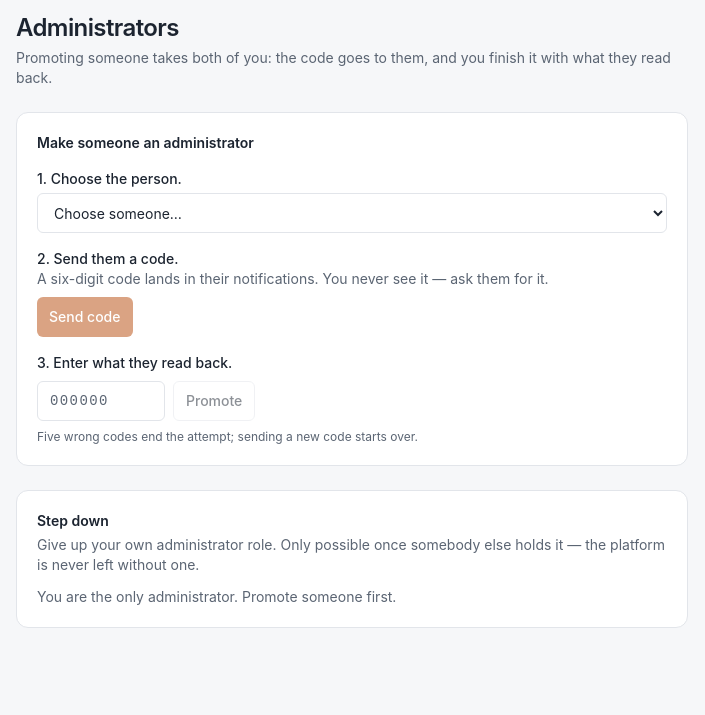
AdminHandoverPage › completes the promotion with the code read back
Select "Demo Faculty 01 · Faculty / researcher · DEMOFACULTY01" in the dropdown named "person to promote": (352, 213) [37,193,667,233]
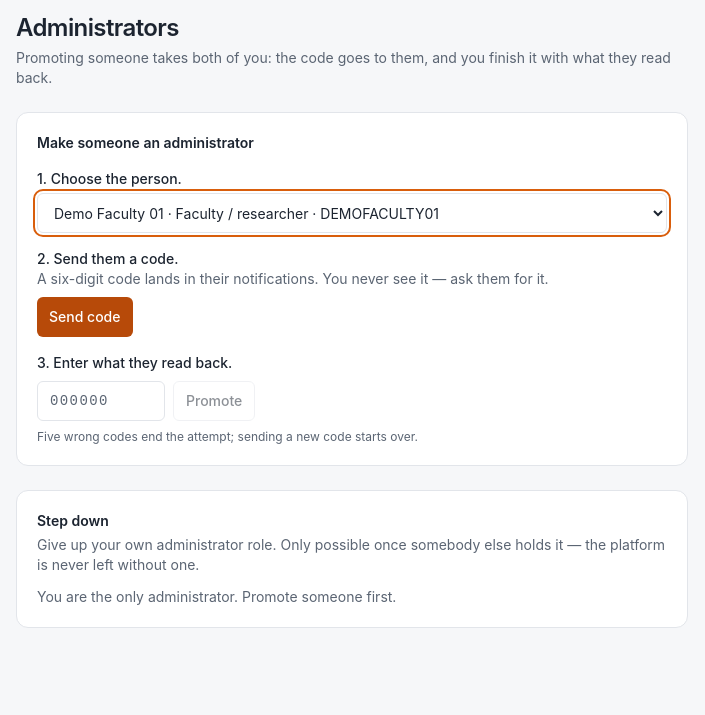
Click the button "Send code": (85, 317) [37,297,132,337]
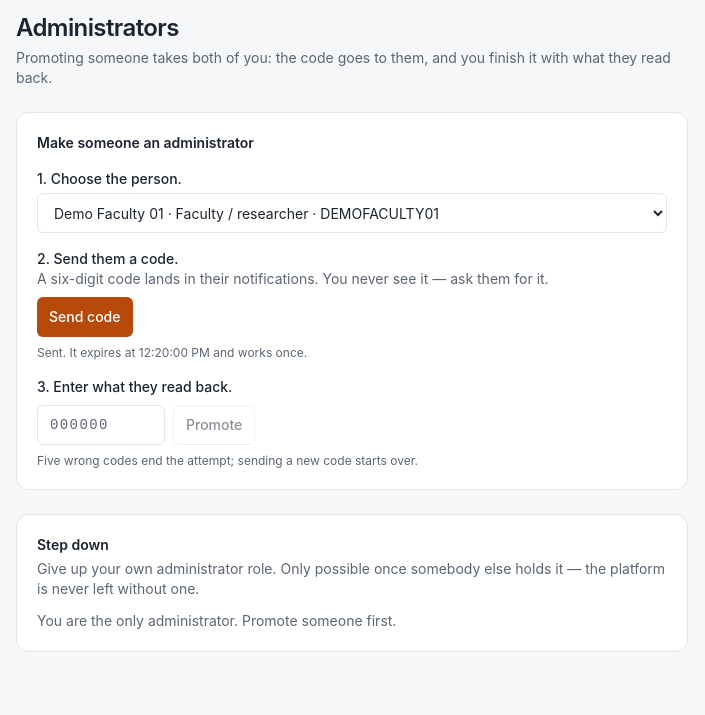
In the field named "confirmation code": (101, 425) [37,405,165,445], type "123456"
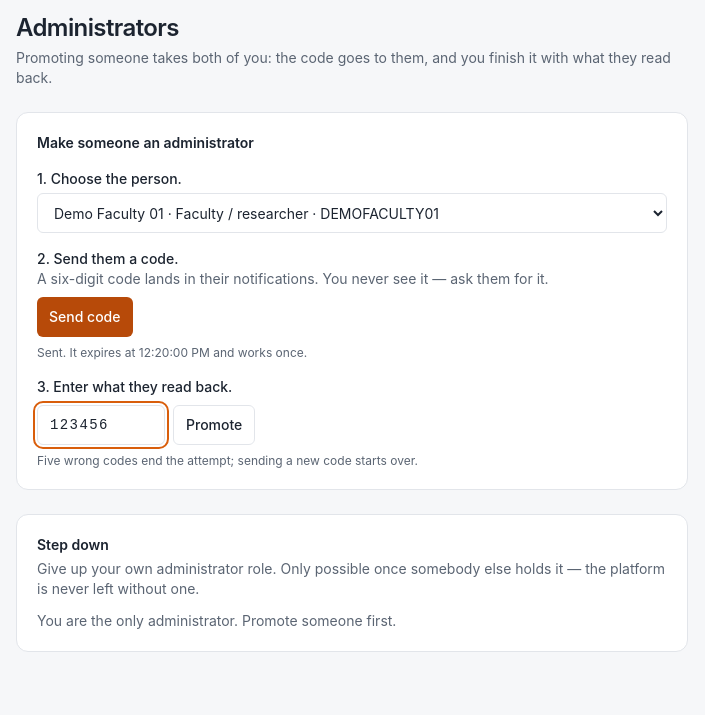
Click the button "Promote": (214, 425) [173,405,255,445]
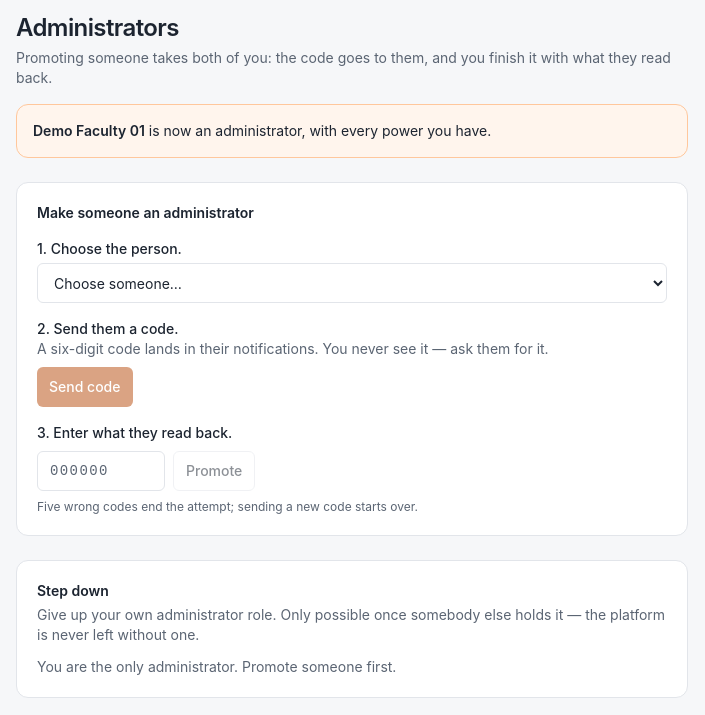
Expected: the text "is now an administrator" is shown, [145,122,491,139]
